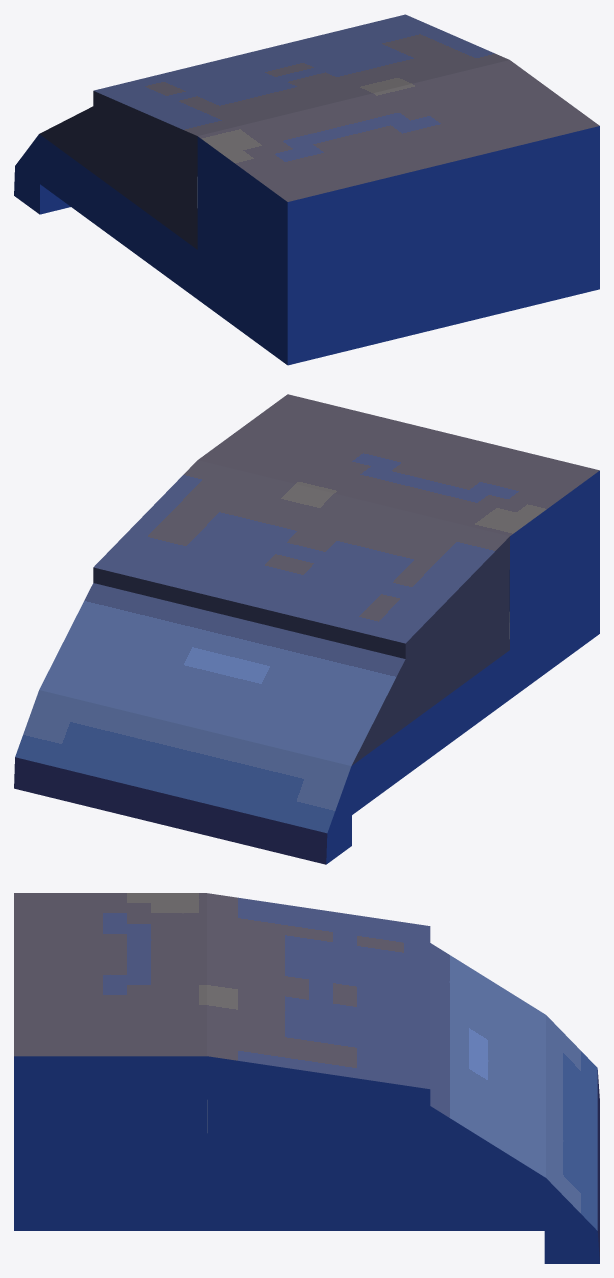
The model's file is df21_dynamic_carport_lh.obj.
The picture shows the model from 3 angles, top to bottom: view 1: azimuth 30°, elevation 25°; view 2: azimuth 150°, elevation 25°; view 3: azimuth 270°, elevation 25°; orthographic projection. The views are drawn at different scales.
Visible parts, largest first — view 1: cuboid_selection_selection_selection_selection; view 2: cuboid_selection_selection_selection_selection; view 3: cuboid_selection_selection_selection_selection.
Part boxes in pixels (<box>): cuboid_selection_selection_selection_selection: <box>14,14,599,365</box>; cuboid_selection_selection_selection_selection: <box>14,394,599,864</box>; cuboid_selection_selection_selection_selection: <box>14,893,599,1263</box>.
Bounding box in the file's own units: 1 × 0.5938 × 1.52.
